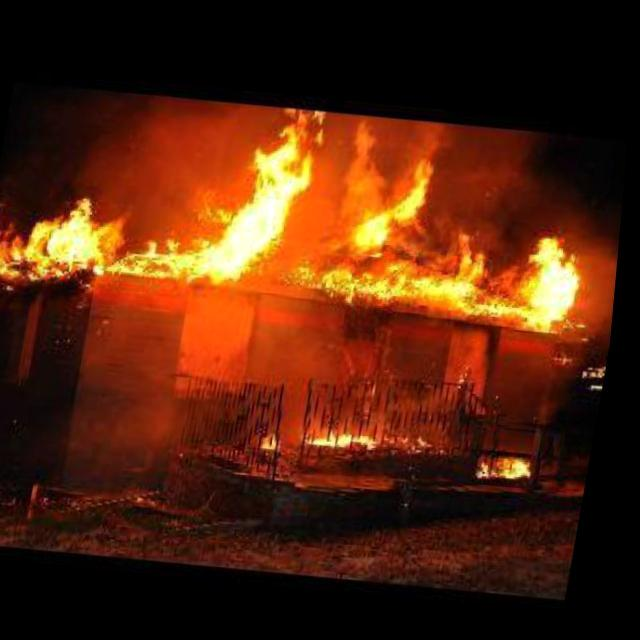fire: (0, 78, 628, 354), (300, 404, 442, 456), (463, 441, 549, 485), (242, 418, 290, 452)
